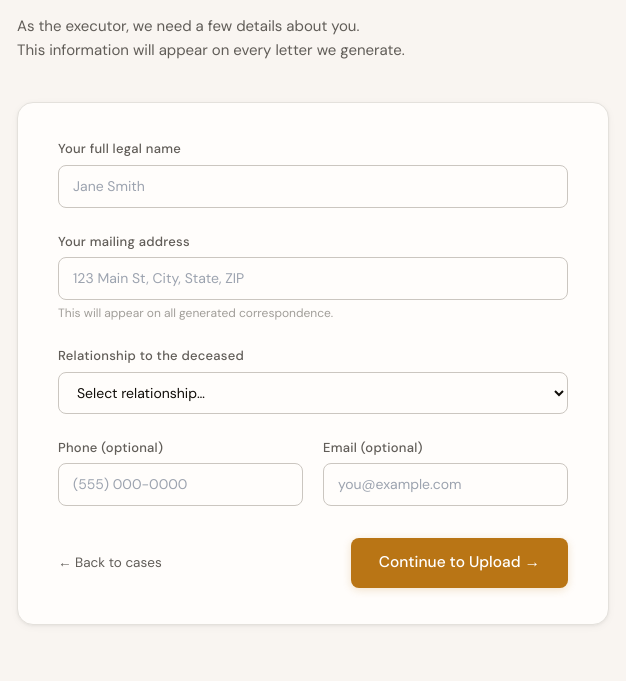
NewCasePage (integration) › shows validation errors when required fields are empty
(page scrolled)
Click the button "Continue to Upload →" at (459,563), box [351, 538, 568, 588]
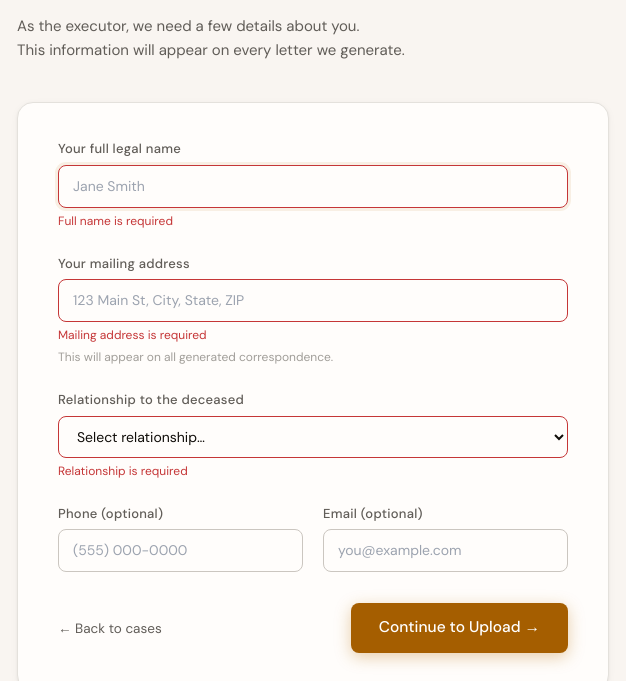
Expected: the text "Full name is required" is shown, [58, 213, 173, 229]
Expected: the text "Relationship is required" is shown, [58, 463, 188, 479]
Expected: the text "Mailing address is required" is shown, [58, 327, 207, 343]
